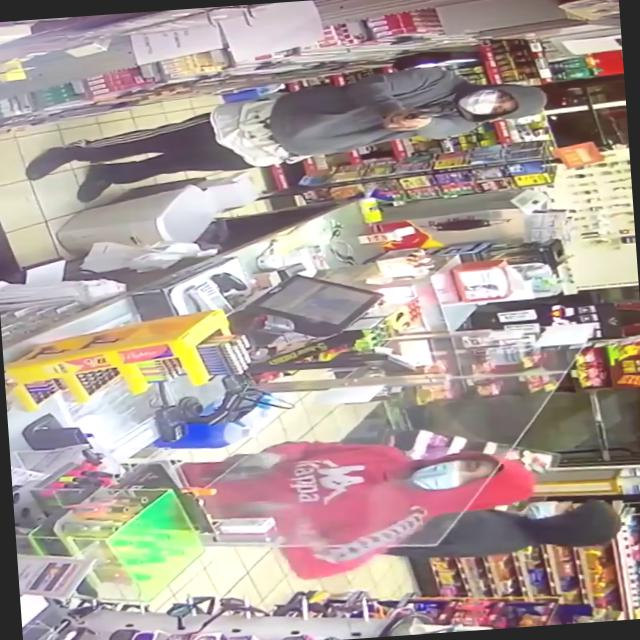handgun: (190, 452, 276, 488), (372, 100, 444, 137)
